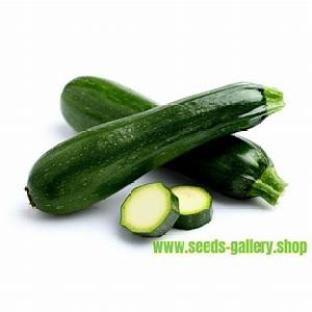Zucchini: (27, 84, 283, 214), (167, 136, 285, 204), (120, 184, 178, 237), (171, 186, 212, 229)
